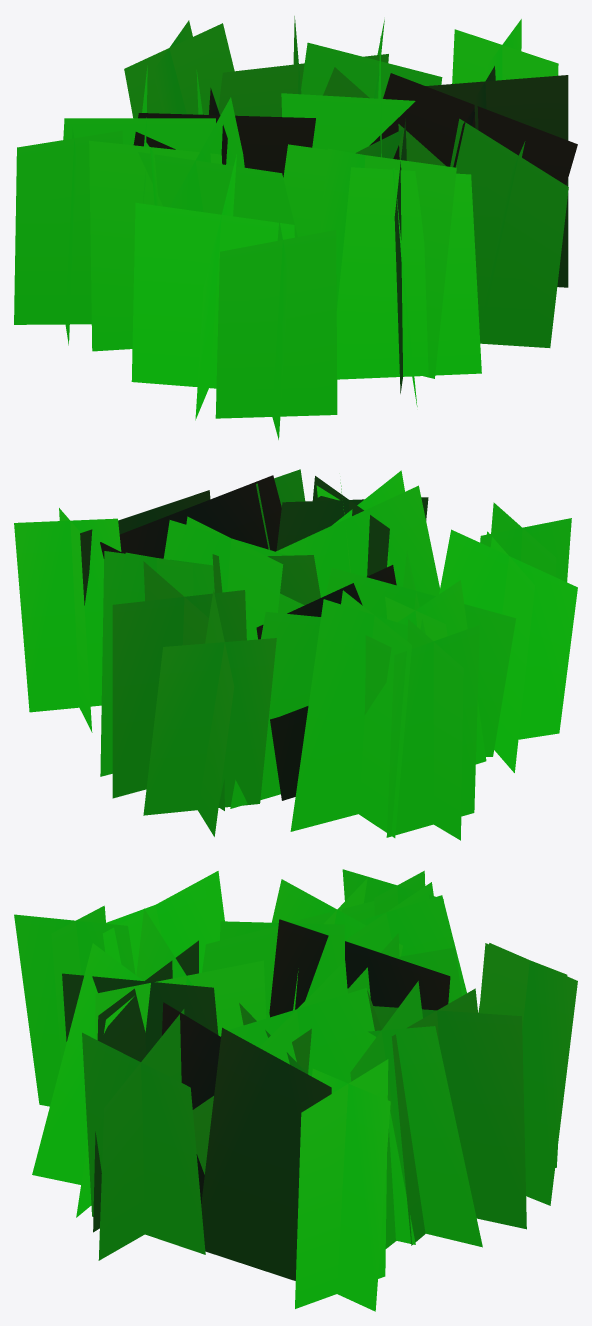
File: grass.fbx
3 views of the same model, one above another, from view 1: azimuth 30°, elevation 25°; view 2: azimuth 150°, elevation 25°; view 3: azimuth 270°, elevation 25° (orthographic). The views are drawn at different scales.
Visible parts, largest first — view 1: grass_0; view 2: grass_0; view 3: grass_0.
Boxes of the visible parts, x1,y1,x2,y2 form: grass_0: [14, 16, 577, 439]; grass_0: [14, 469, 577, 840]; grass_0: [14, 869, 577, 1311].
Bounding box in the file's own units: 86.36 × 40.14 × 81.06.
